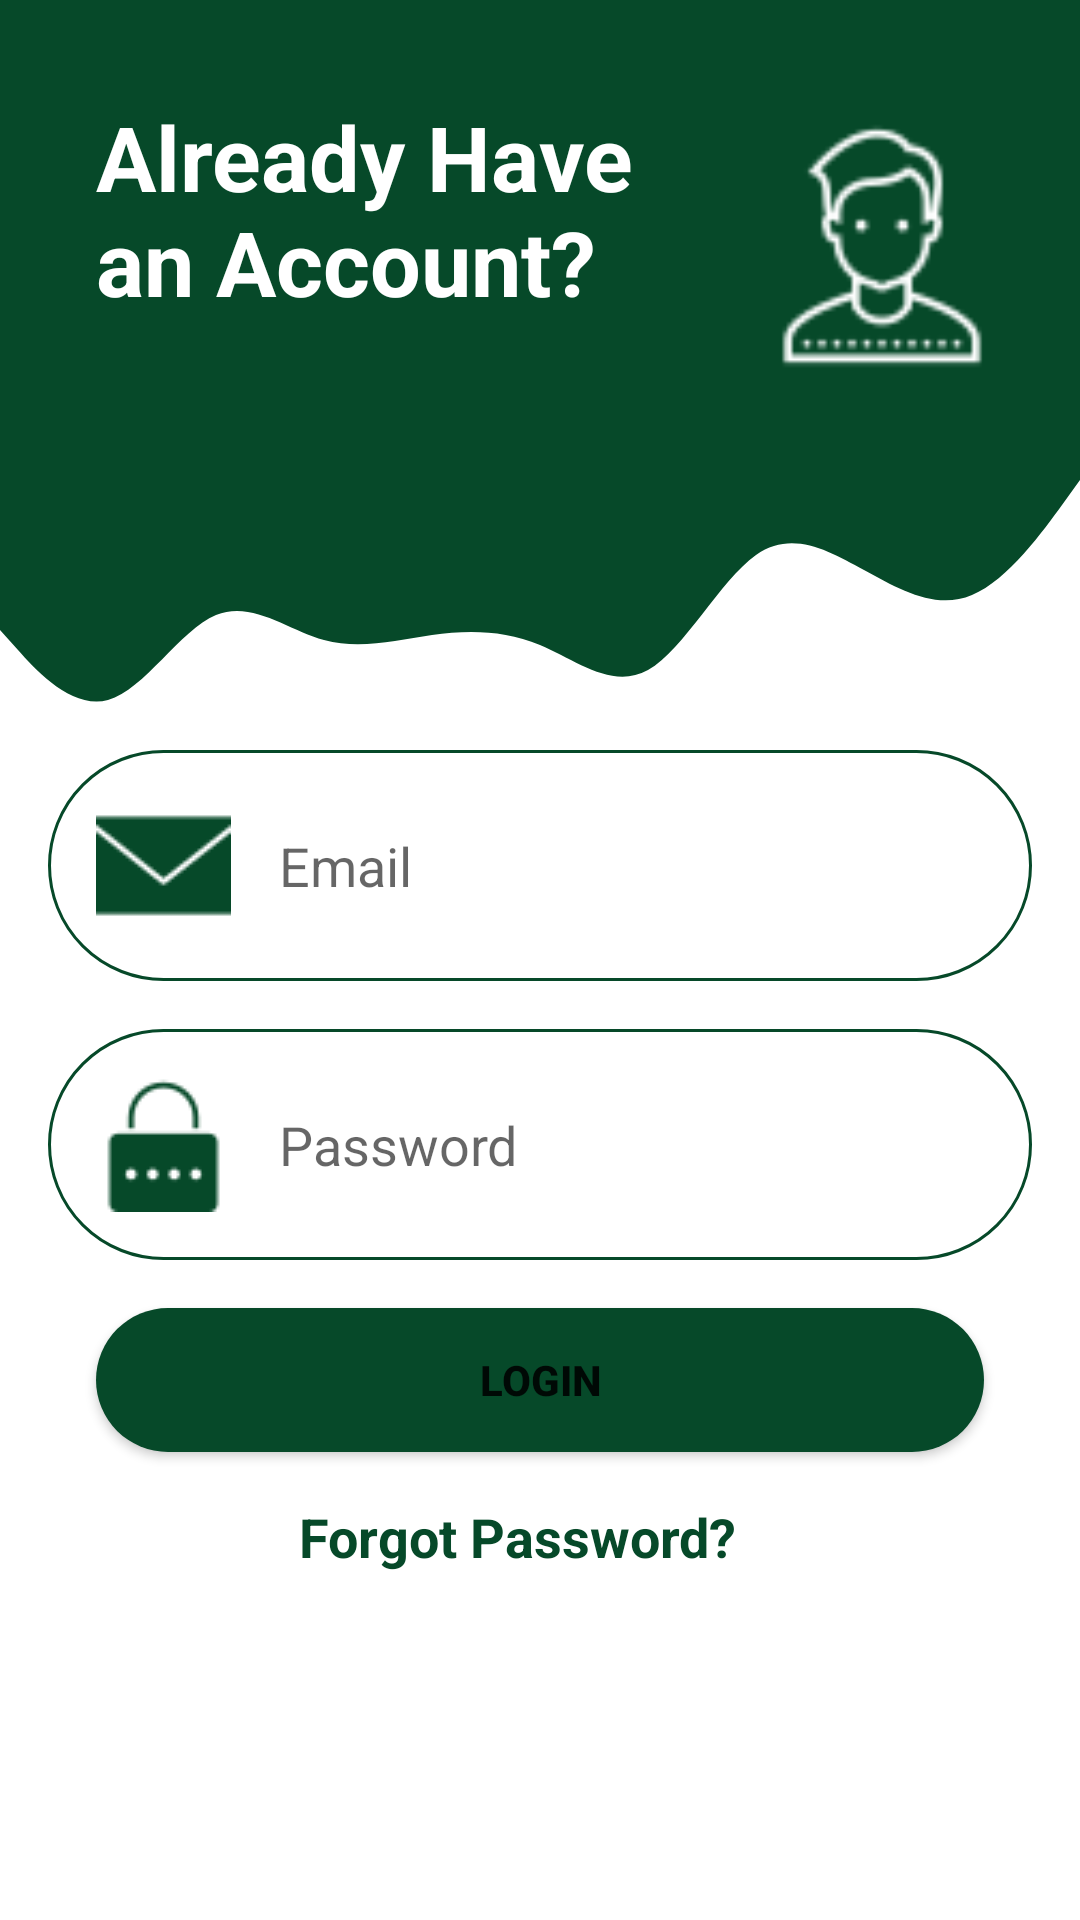

Icons on this 1080w x 1920h Android screen, each with its box as (x1, y1, x2, y2):
user: (782, 128, 982, 365)
